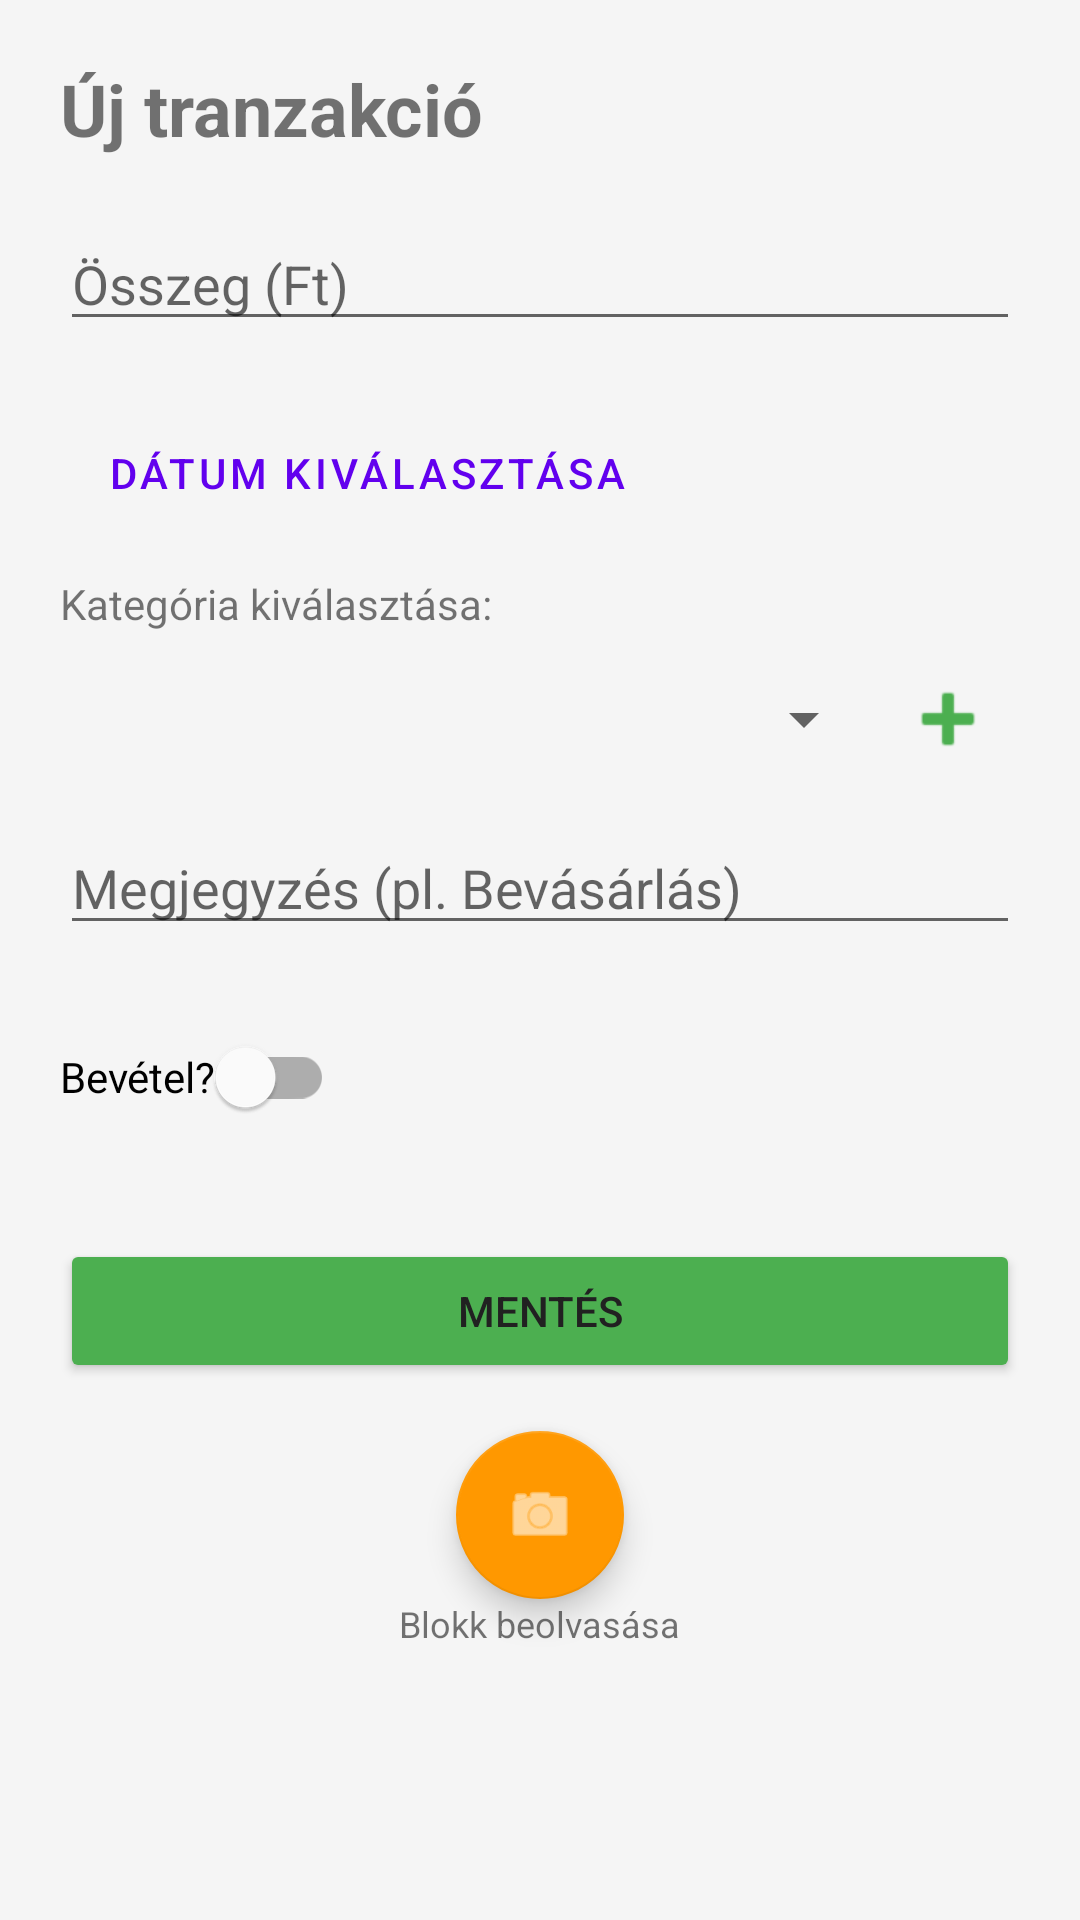

Where to tap for icons on this 1080px×1920px app screen, as [x,y]:
camera: [540,1515]
Új kategória: [948,719]
